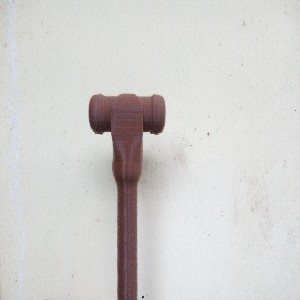palu: (88, 92, 166, 300)
